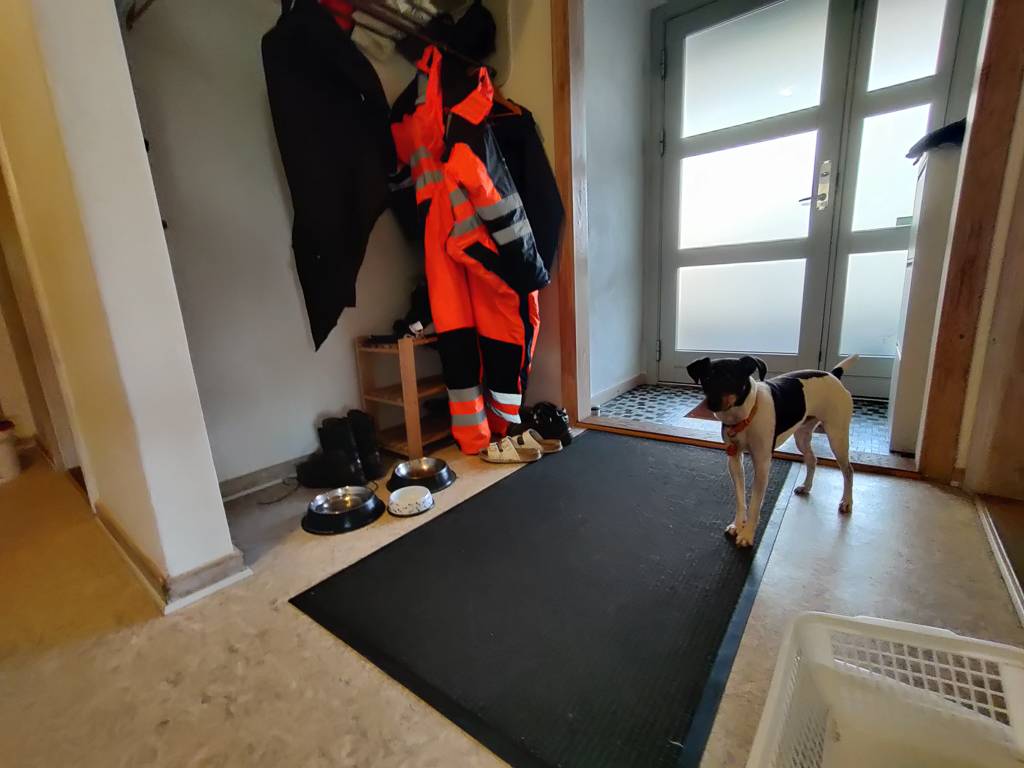Dog: (675, 343, 874, 552)
